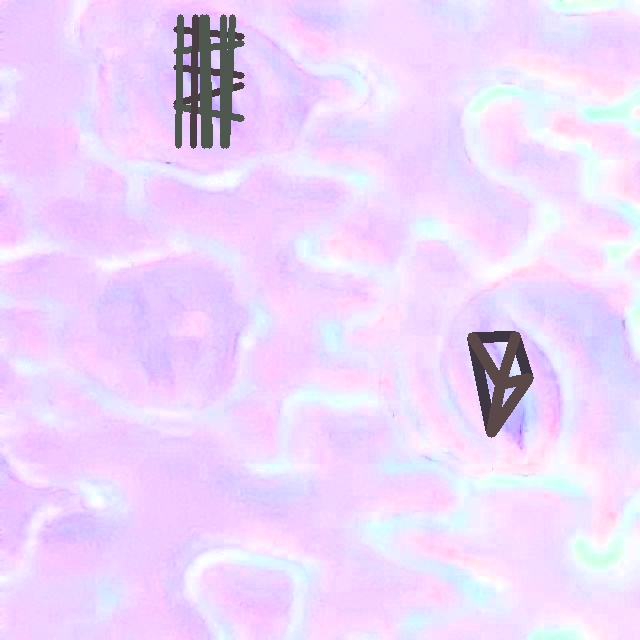open: (173, 14, 244, 148), (467, 332, 533, 436)
